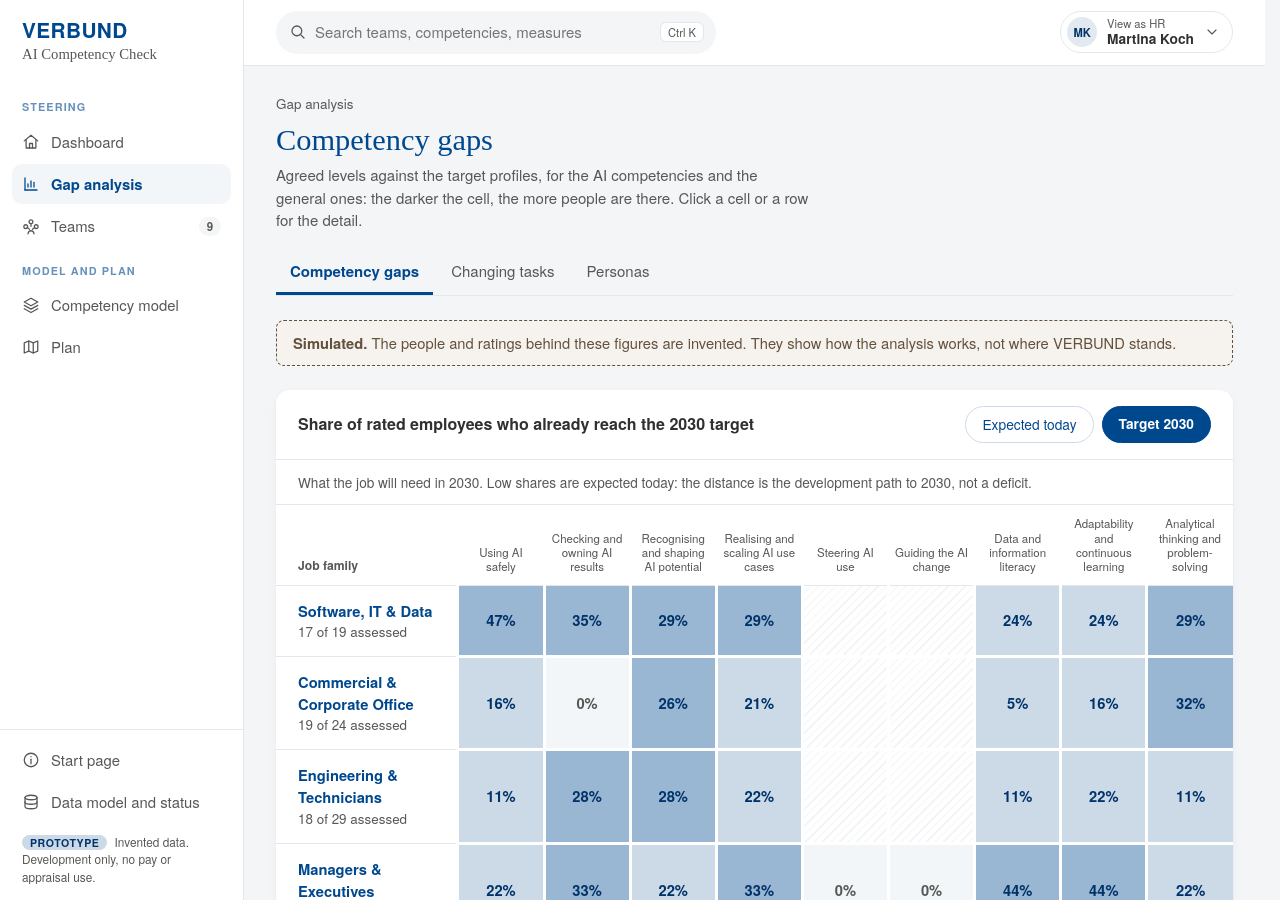
Test case: preview › opens a heatmap cell for HR and never a person
Expected: the navigation bar named "Main" is shown, [12,100,231,357]
Click the button "47%" at (501, 620), box [459,596,542,644]
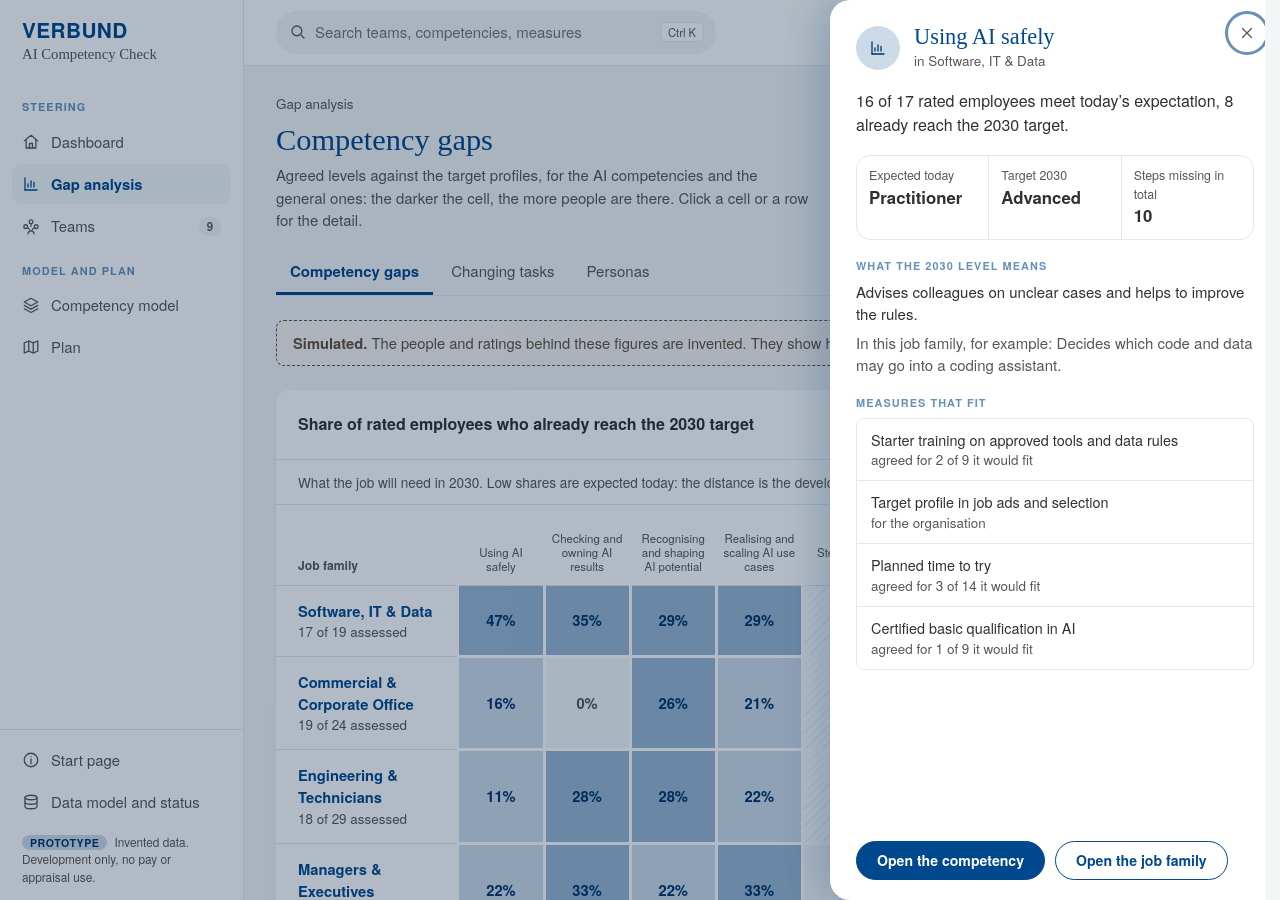
Click the button named "Close preview" at (640, 450), box [0,0,1279,899]
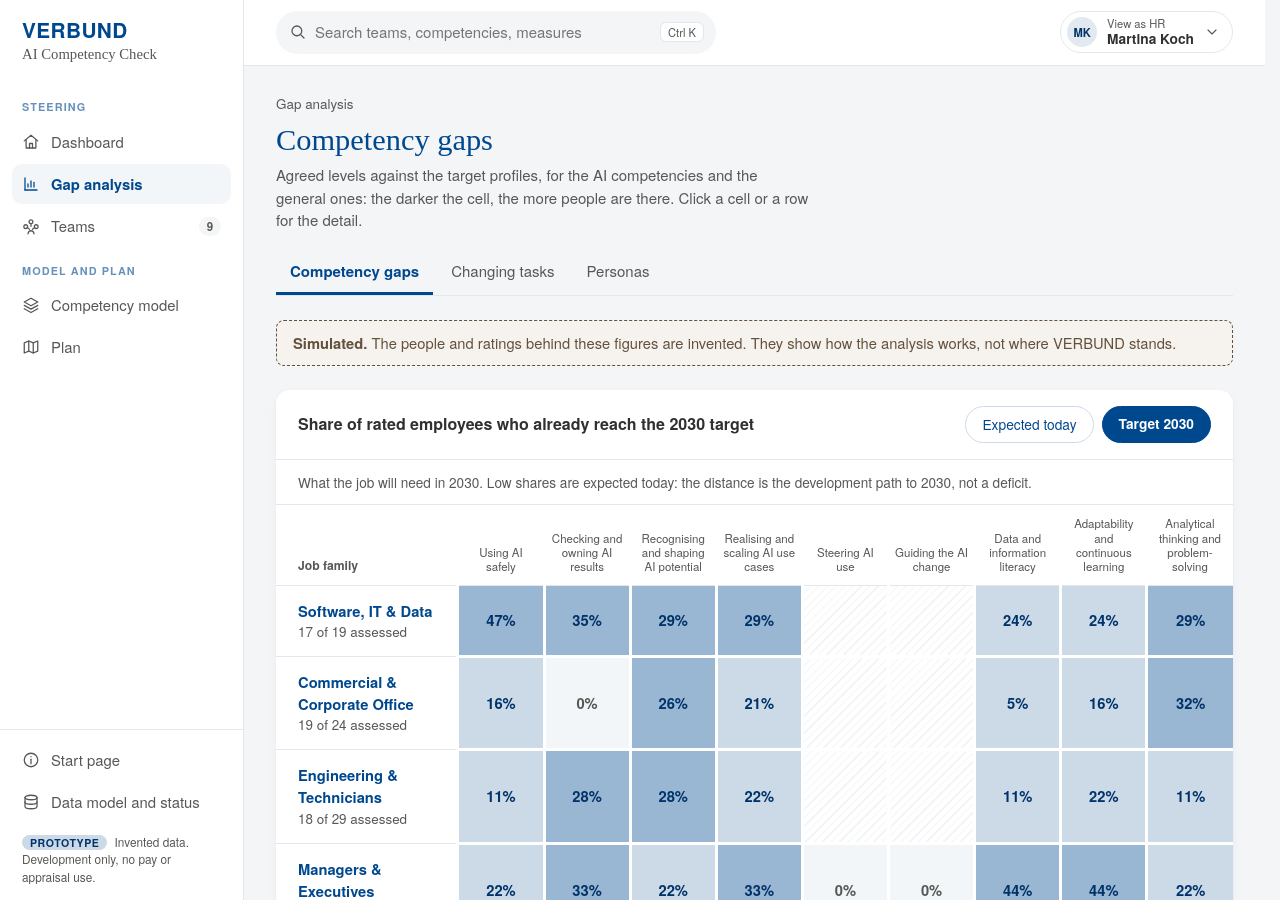
Expected: the dialog is gone
